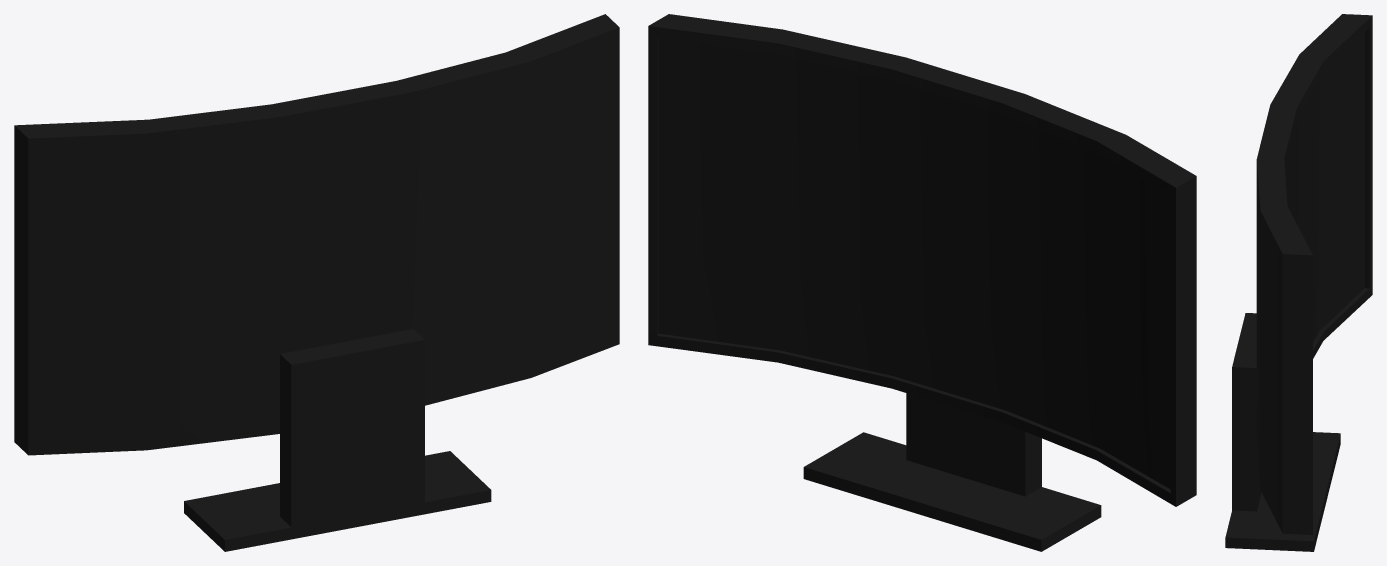
File: fbx_monitor.fbx
3 renders of one model, left to right at view 1: azimuth 30°, elevation 25°; view 2: azimuth 150°, elevation 25°; view 3: azimuth 270°, elevation 25°, orthographic. The views are drawn at different scales.
Visible parts, largest first — view 1: fbx_monitor; view 2: fbx_monitor; view 3: fbx_monitor.
Boxes of the visible parts, bbox=[...] form: fbx_monitor: bbox=[14, 14, 619, 551]; fbx_monitor: bbox=[648, 14, 1196, 551]; fbx_monitor: bbox=[1225, 14, 1372, 551].
Size of the model in its own units: 1.15 by 0.8064 by 0.296.
Materials: 1 (1 with a texture image).
